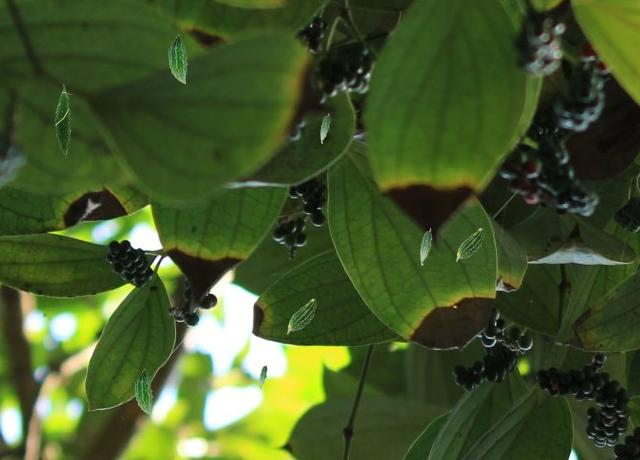ampalaya: (53, 83, 73, 158), (286, 298, 316, 334), (167, 33, 188, 84), (455, 228, 484, 261), (134, 368, 153, 415), (419, 227, 432, 265), (320, 113, 330, 143), (259, 363, 267, 389)
